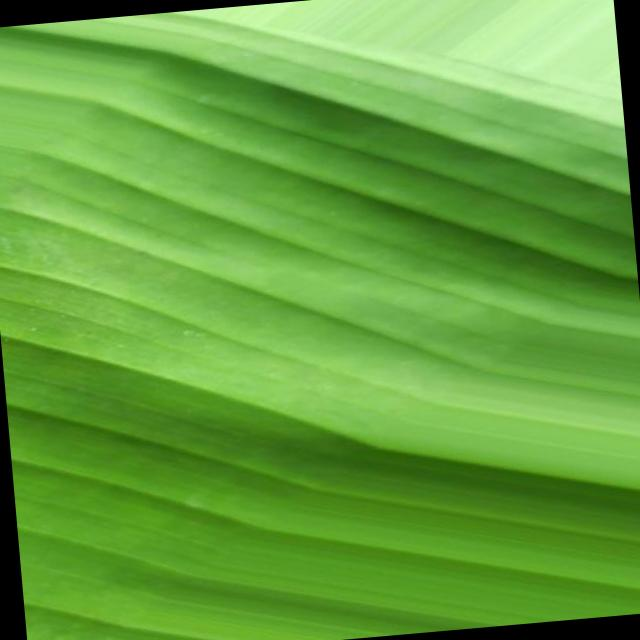Banana_Healthy: (94, 128, 573, 530)
